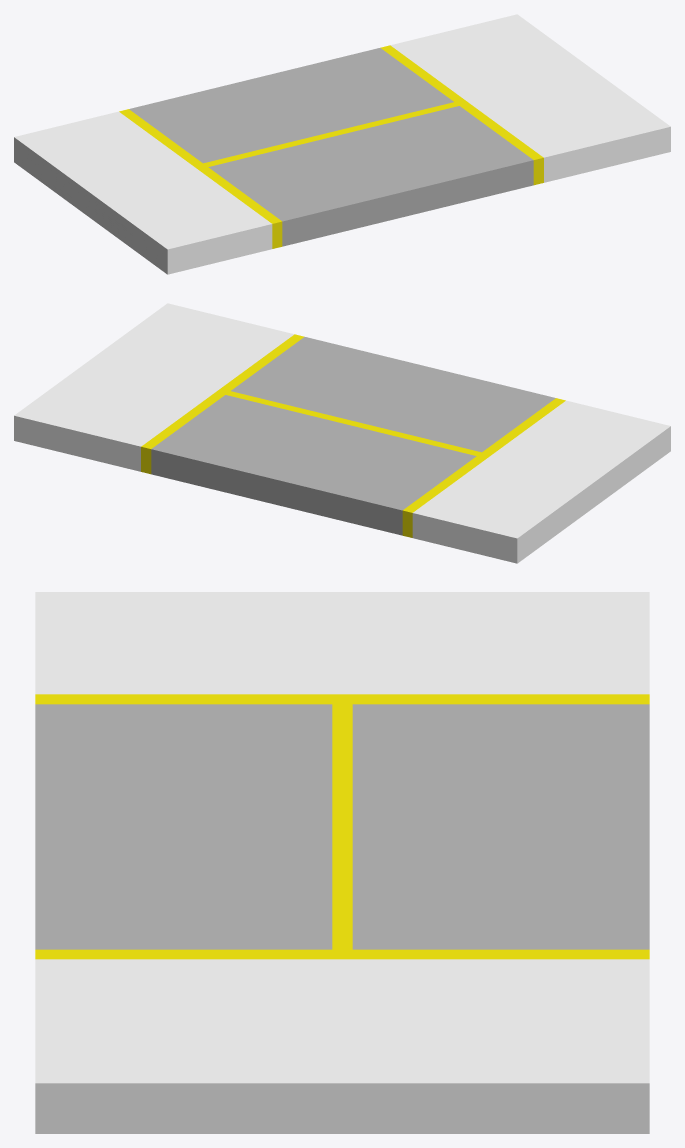
The model's file is right Platform.fbx.
The picture shows the model from 3 angles, top to bottom: view 1: azimuth 30°, elevation 25°; view 2: azimuth 150°, elevation 25°; view 3: azimuth 270°, elevation 25°; orthographic projection. The views are drawn at different scales.
Parts seen in each view (by area): view 1: Cube.048; view 2: Cube.048; view 3: Cube.048.
Part boxes in pixels (x1=…): Cube.048: x1=14, y1=14, x2=670, y2=274; Cube.048: x1=14, y1=303, x2=670, y2=563; Cube.048: x1=35, y1=592, x2=649, y2=1133.
Size of the model in its own units: 2091 by 100 by 1105.
